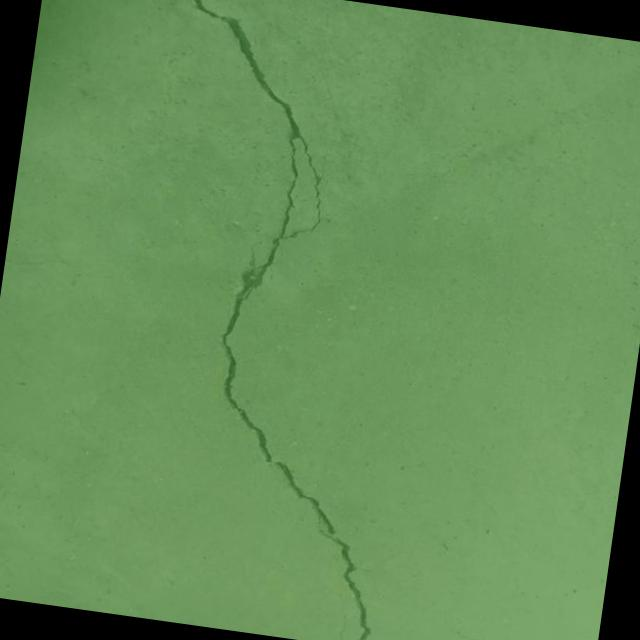crack: (96, 0, 458, 640), (433, 611, 502, 640), (335, 603, 350, 640)
